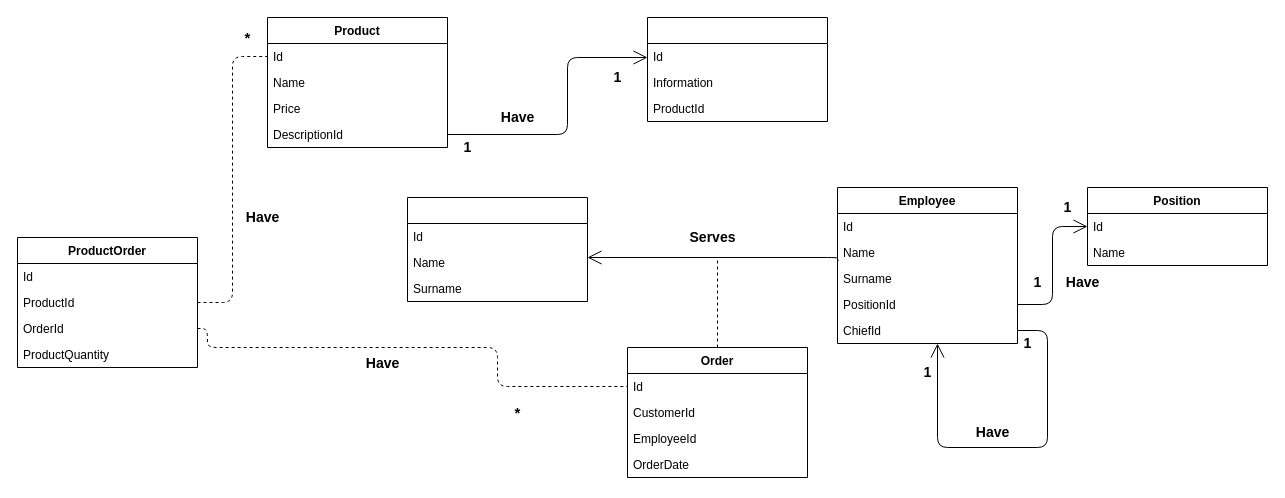
The diagram is 1285 pixels wide and 498 high, and some of its shapes have lost their labels. The shapes that lost their labels are listed below. From the top down, each one's box as (x1, y1, x2, y2) in pixels, then its label:
(646, 16, 828, 122): Description
(406, 196, 588, 302): Customer
